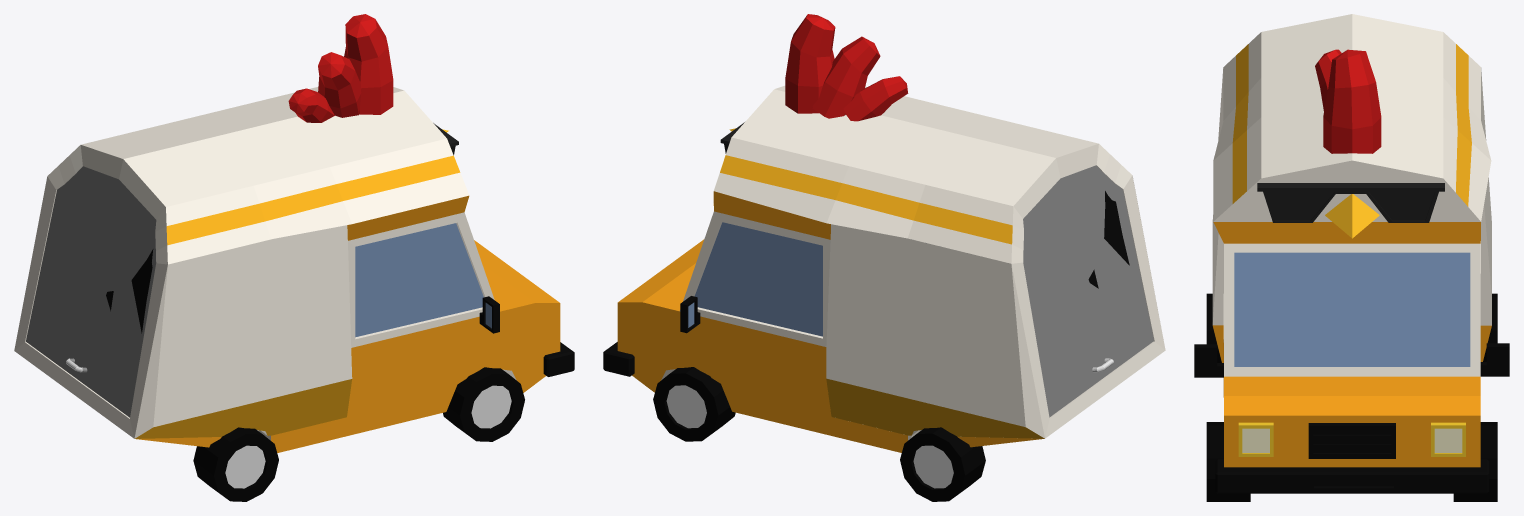
Rendered from NouveauCroustyBus.fbx.
3 views of the same model, side by side, from view 1: azimuth 30°, elevation 25°; view 2: azimuth 150°, elevation 25°; view 3: azimuth 270°, elevation 25° (orthographic). The views are drawn at different scales.
Visible parts, largest first — view 1: Carroserie, Coffre, Roue arrière D, Roue Avant D; view 2: Carroserie, Coffre, Roue arrière G, Roue Avant G; view 3: Carroserie, Aération, Roue Avant D, Roue Avant G, Phare G, Phare D, Roue arrière D, Roue arrière G.
Part boxes in pixels (<box>): Carroserie: <box>14,14,574,452</box>; Coffre: <box>26,166,156,417</box>; Roue arrière D: <box>193,427,278,501</box>; Roue Avant D: <box>443,367,524,441</box>; Carroserie: <box>603,14,1165,452</box>; Coffre: <box>1023,165,1153,417</box>; Roue arrière G: <box>900,427,985,501</box>; Roue Avant G: <box>653,367,735,441</box>; Carroserie: <box>1194,14,1509,493</box>; Aération: <box>1308,423,1395,458</box>; Roue Avant D: <box>1206,422,1250,501</box>; Roue Avant G: <box>1453,422,1497,501</box>; Phare G: <box>1238,422,1273,456</box>; Phare D: <box>1431,422,1465,456</box>; Roue arrière D: <box>1206,293,1221,362</box>; Roue arrière G: <box>1483,293,1497,361</box>.
Bounding box in the file's own units: 1868 × 1574 × 1082.
